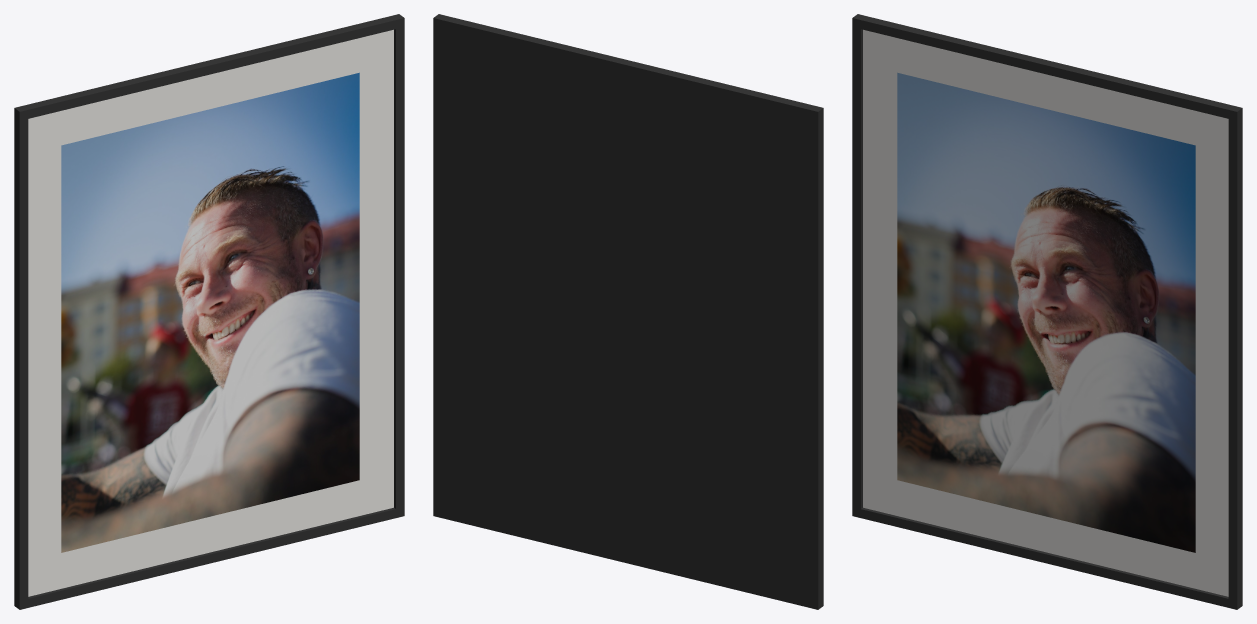
File: vila-i-frid-90.gltf
3 renders of one model, left to right at view 1: azimuth 30°, elevation 25°; view 2: azimuth 150°, elevation 25°; view 3: azimuth 330°, elevation 25°, orthographic.
Parts seen in each view (by area): view 1: tavla; view 2: tavla; view 3: tavla.
Part boxes in pixels (bbox=[...]): tavla: bbox=[14, 14, 404, 609]; tavla: bbox=[433, 14, 823, 609]; tavla: bbox=[852, 14, 1242, 609].
Size of the model in its own units: 0.8895 by 1.1 by 0.022.
3 materials, 1 textured.
